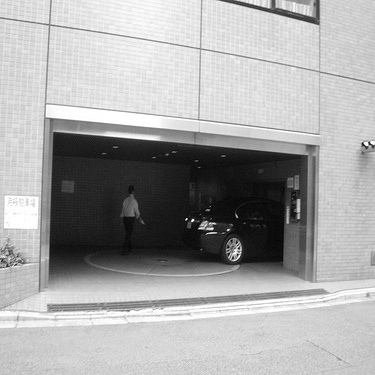car: (175, 185, 289, 263)
